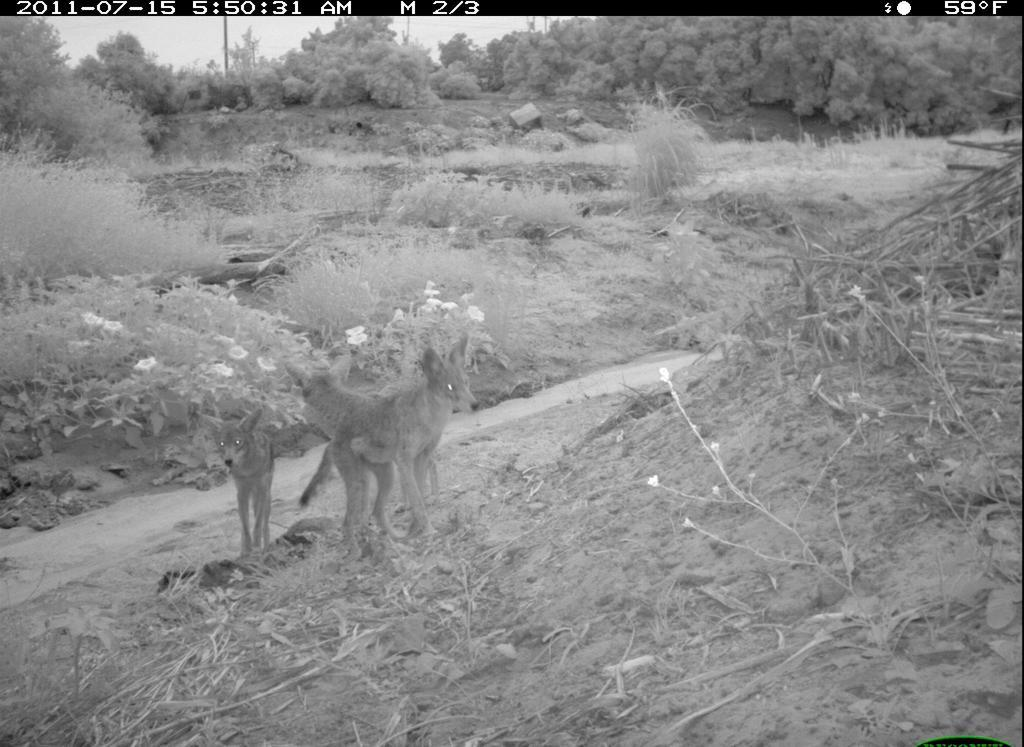coyote: (297, 342, 488, 566), (278, 349, 446, 550), (201, 400, 292, 555)
